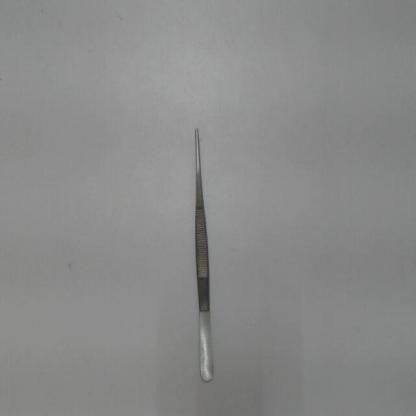Gillies Toothed Dissector: (185, 117, 219, 389)
